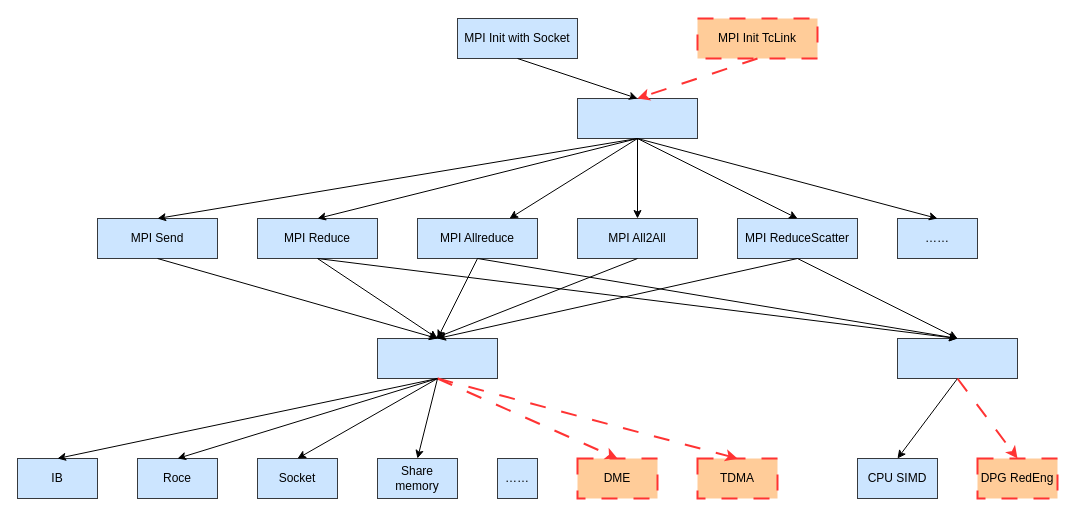
Image size: 1076x516. Some labels were removed from this diagram. The box of each missing label's shape, as (x1, y1, x2, y2) in pixels:
Data Computer: (896, 338, 1018, 378)
Data Transform: (376, 338, 498, 378)
MPI Work: (576, 98, 698, 138)
